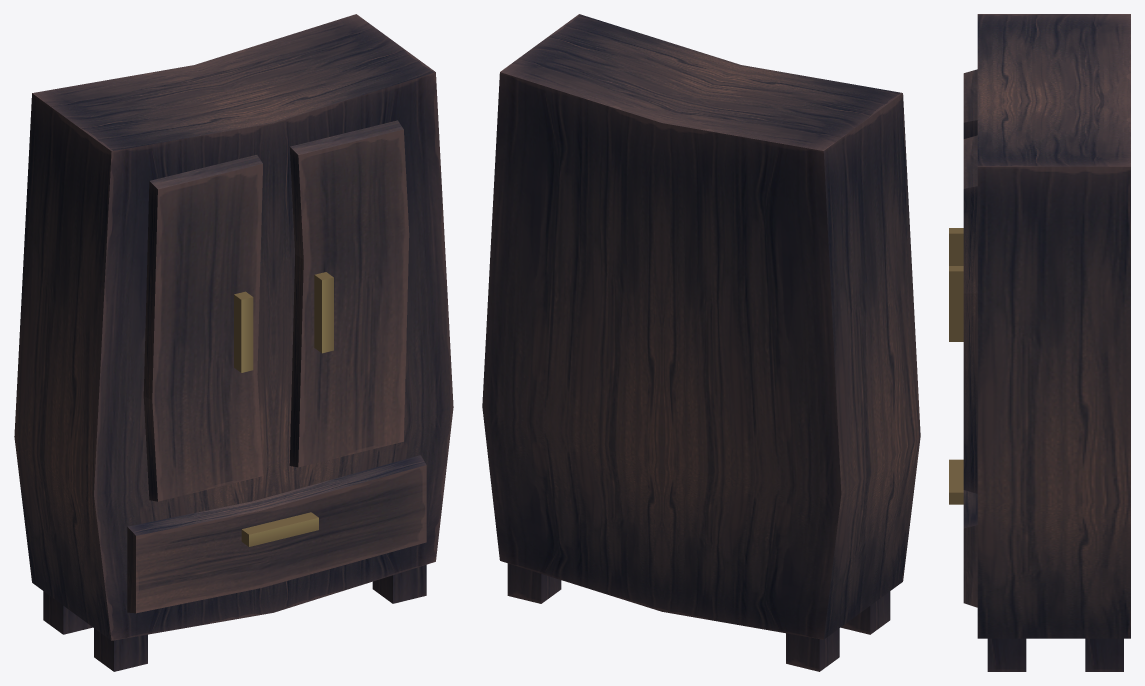
The model's file is Wardrobe_B.fbx.
The picture shows the model from 3 angles, left to right: view 1: azimuth 30°, elevation 25°; view 2: azimuth 150°, elevation 25°; view 3: azimuth 270°, elevation 25°; orthographic projection. The views are drawn at different scales.
Parts seen in each view (by area): view 1: Wardrobe_B; view 2: Wardrobe_B; view 3: Wardrobe_B.
Part boxes in pixels (x1,y1,x2,y2): Wardrobe_B: [14, 14, 453, 671]; Wardrobe_B: [482, 14, 920, 671]; Wardrobe_B: [949, 14, 1130, 671].
Size of the model in its own units: 0.307 by 0.4292 by 0.1395.
